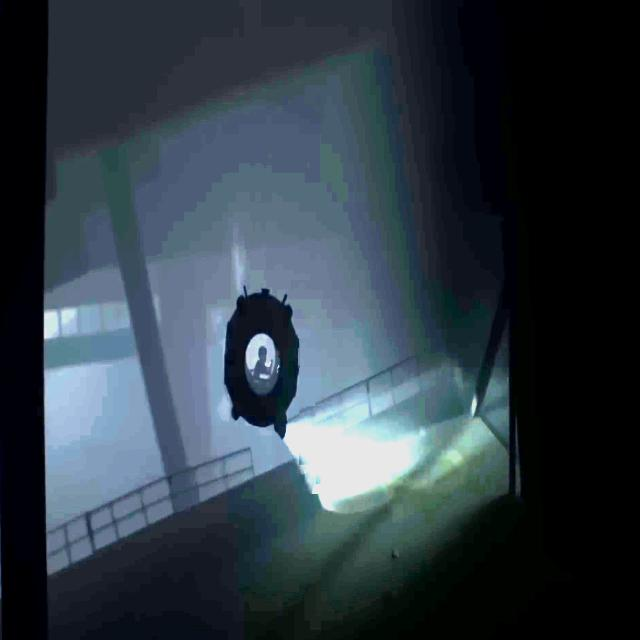boy: (254, 345, 274, 382)
submarine: (224, 284, 299, 439)
